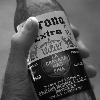beer: (12, 1, 95, 100)
